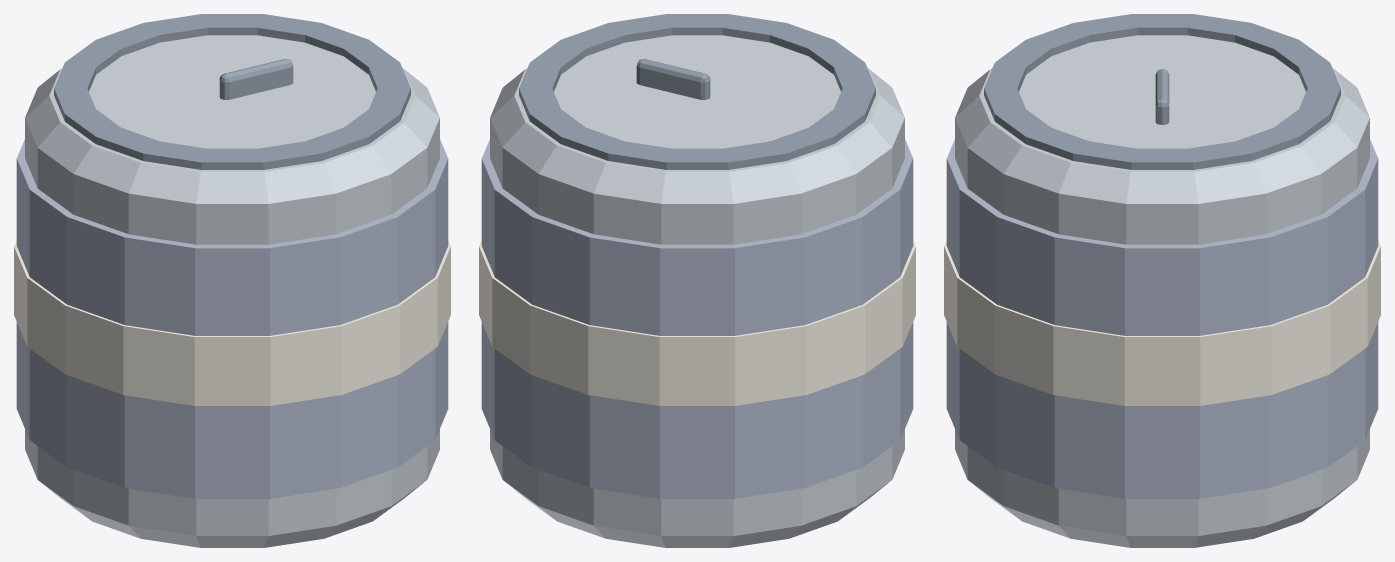
The model's file is can.glb.
3 renders of one model, left to right at view 1: azimuth 30°, elevation 25°; view 2: azimuth 150°, elevation 25°; view 3: azimuth 270°, elevation 25°, orthographic.
Parts seen in each view (by area): view 1: can; view 2: can; view 3: can.
Part boxes in pixels (x1=…): can: x1=14, y1=14, x2=450, y2=547; can: x1=479, y1=14, x2=915, y2=547; can: x1=944, y1=14, x2=1380, y2=547.
Size of the model in its own units: 0.6224 by 0.637 by 0.632.
